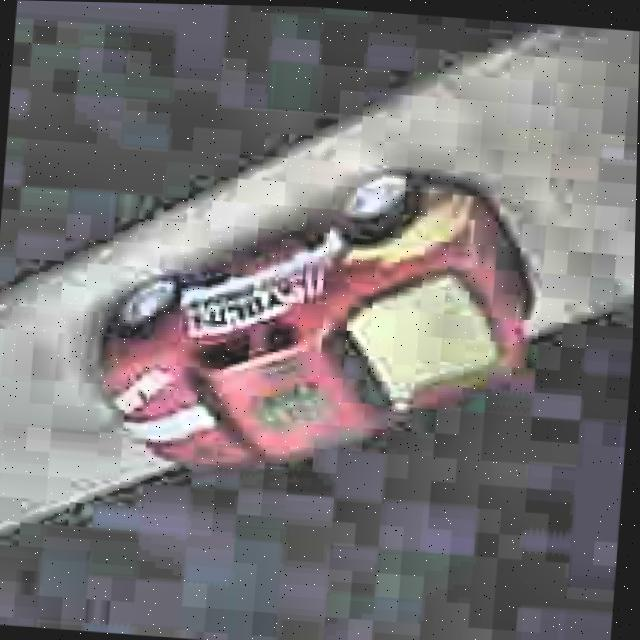car: (88, 138, 550, 496)
